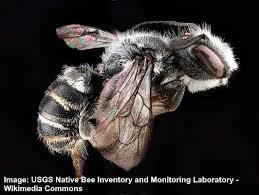Meliponula: (37, 10, 251, 174)
